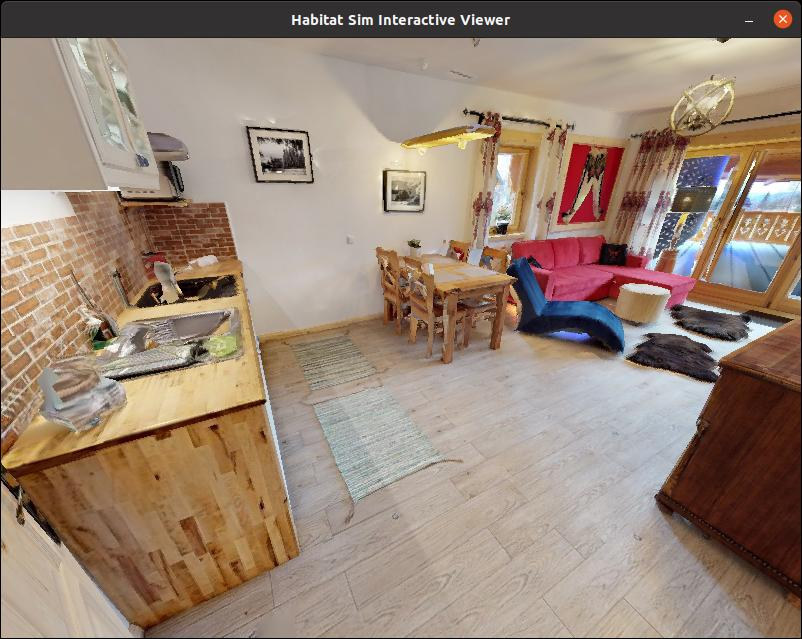chair: (393, 237, 470, 363)
sofa: (497, 229, 710, 335)
table: (367, 209, 529, 368)
